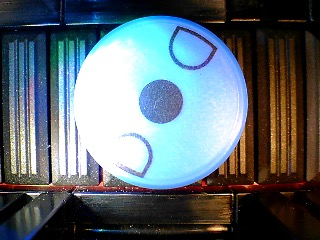BOHOMIPO2: (72, 15, 249, 190)
